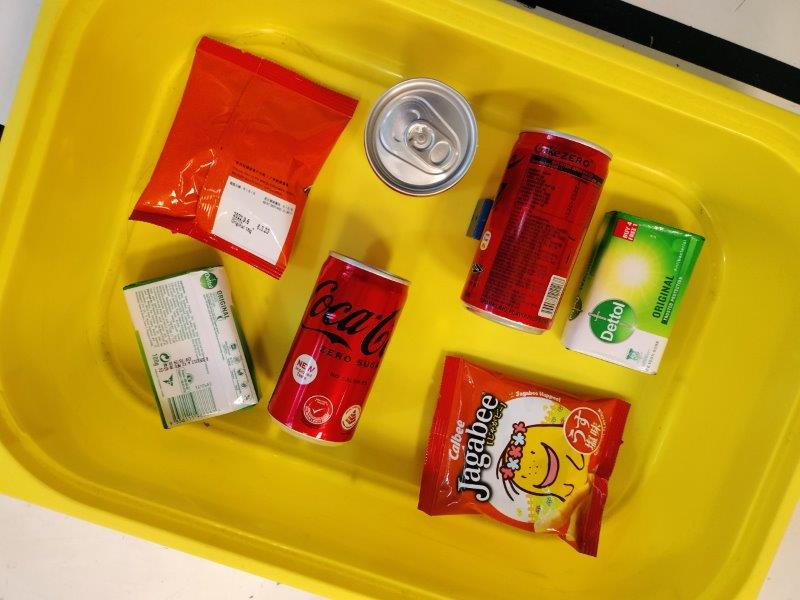Coke: (461, 130, 612, 334), (267, 254, 407, 447), (363, 78, 480, 198)
Dettol: (563, 210, 705, 373), (124, 266, 262, 429)
Jagabee: (128, 36, 357, 278), (416, 356, 631, 557)
